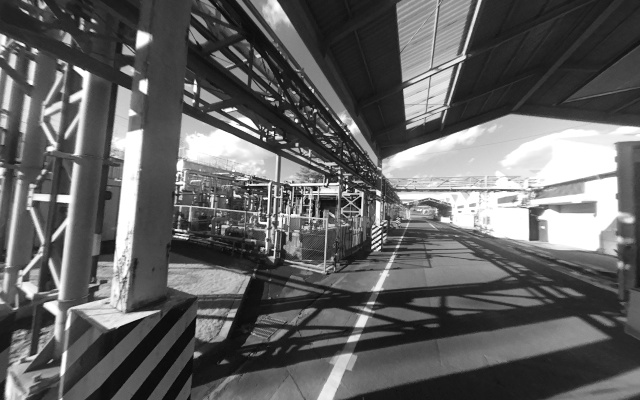bollard: (65, 302, 195, 400), (371, 223, 383, 252)
